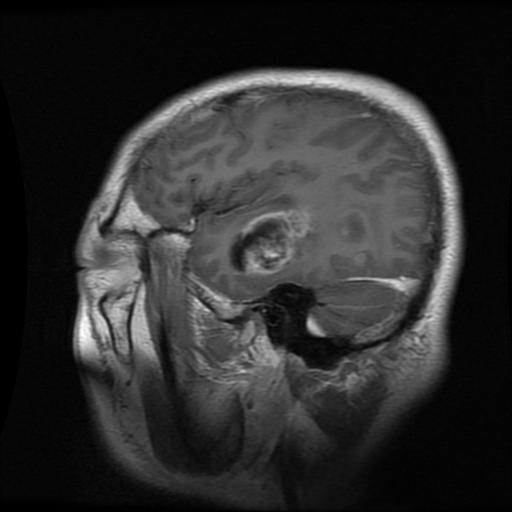Gliomia_tumour: (224, 209, 319, 274)
